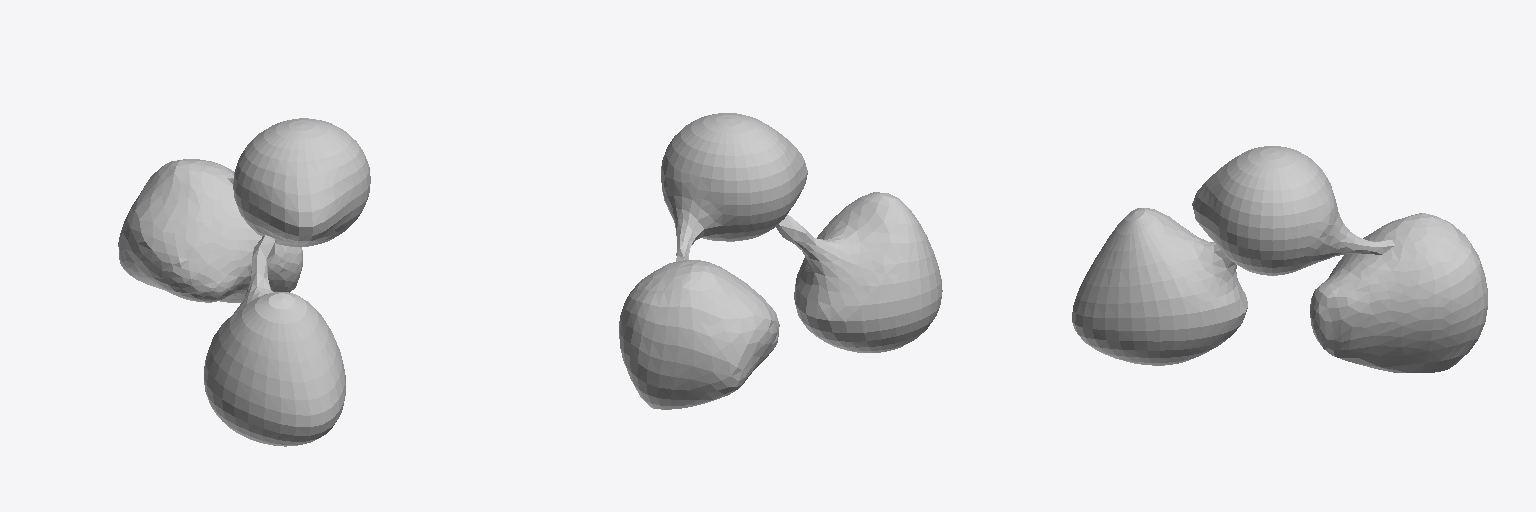
Rendered from NEUTROFIL.obj.
3 renders of one model, left to right at view 1: azimuth 30°, elevation 25°; view 2: azimuth 150°, elevation 25°; view 3: azimuth 270°, elevation 25°, orthographic.
Visible parts, largest first — view 1: Sphere.002; view 2: Sphere.002; view 3: Sphere.002.
Boxes of the visible parts, box(x1,y1,x2,y2) form: Sphere.002: box(118, 118, 370, 446); Sphere.002: box(619, 113, 942, 409); Sphere.002: box(1072, 146, 1487, 372).
Size of the model in its own units: 4.88 by 5.59 by 8.52.